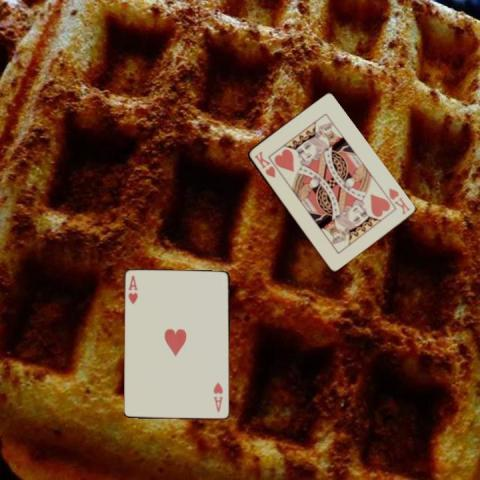Ah: (211, 380, 225, 413), (126, 273, 140, 305)
Kh: (250, 148, 276, 179), (386, 185, 412, 216)
